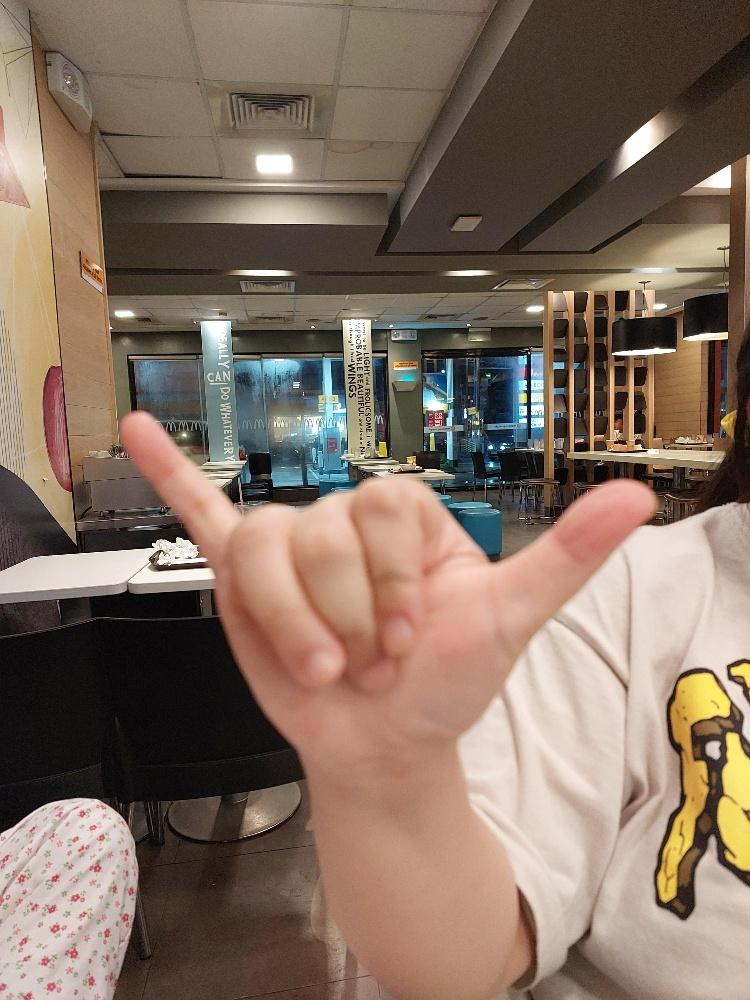y: (117, 405, 658, 765)
